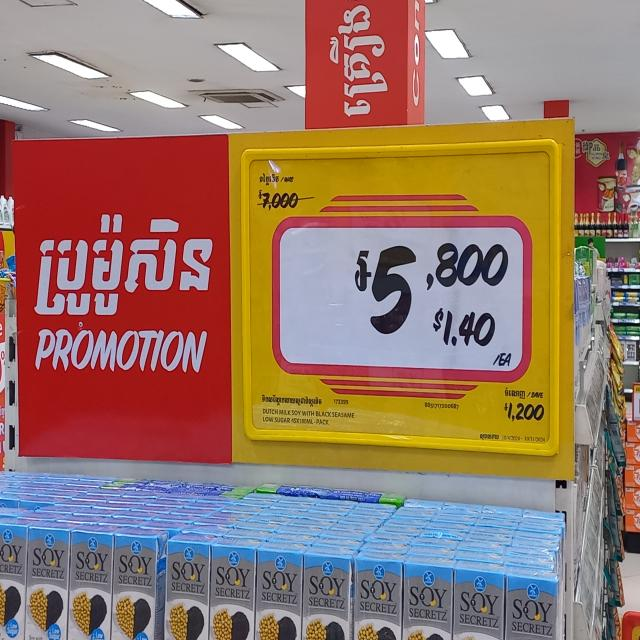Yolov11kh: (27, 195, 228, 324), (366, 235, 517, 340), (328, 1, 397, 121), (434, 301, 497, 350), (255, 385, 326, 406), (501, 400, 548, 423), (255, 189, 302, 210), (422, 399, 468, 415), (501, 385, 526, 402), (258, 172, 283, 185), (476, 430, 501, 442), (331, 395, 351, 406)
